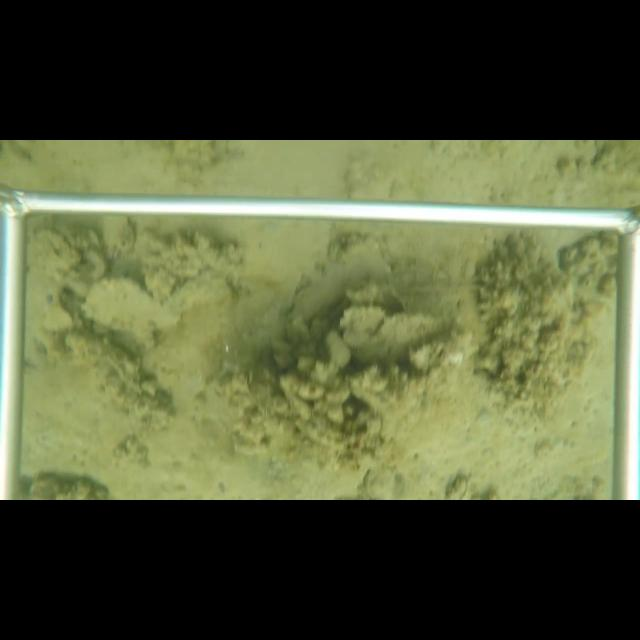Oyster-Closed: (82, 276, 183, 334)
